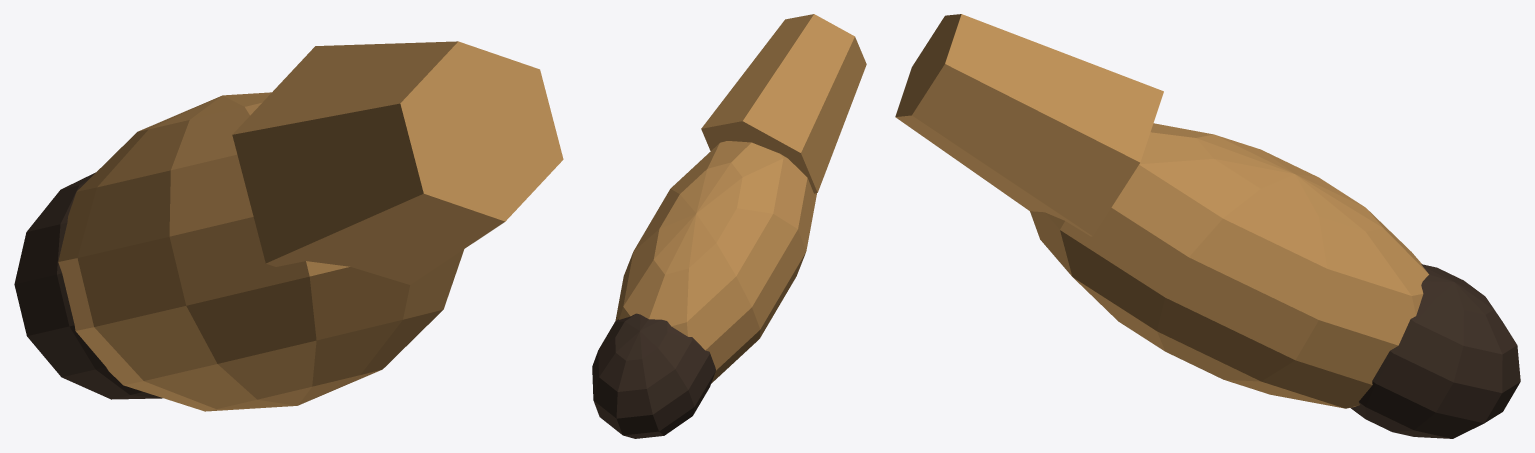
The model's file is dustpaw_chief_tail.glb.
3 views of the same model, side by side, from view 1: azimuth 30°, elevation 25°; view 2: azimuth 150°, elevation 25°; view 3: azimuth 270°, elevation 25° (orthographic). The views are drawn at different scales.
Visible parts, largest first — view 1: dustpaw_chief_tail; view 2: dustpaw_chief_tail; view 3: dustpaw_chief_tail.
Boxes of the visible parts, bbox=[...] form: dustpaw_chief_tail: bbox=[14, 41, 563, 411]; dustpaw_chief_tail: bbox=[592, 14, 866, 438]; dustpaw_chief_tail: bbox=[895, 14, 1520, 438].
Size of the model in its own units: 0.267 by 0.5878 by 0.7976.
